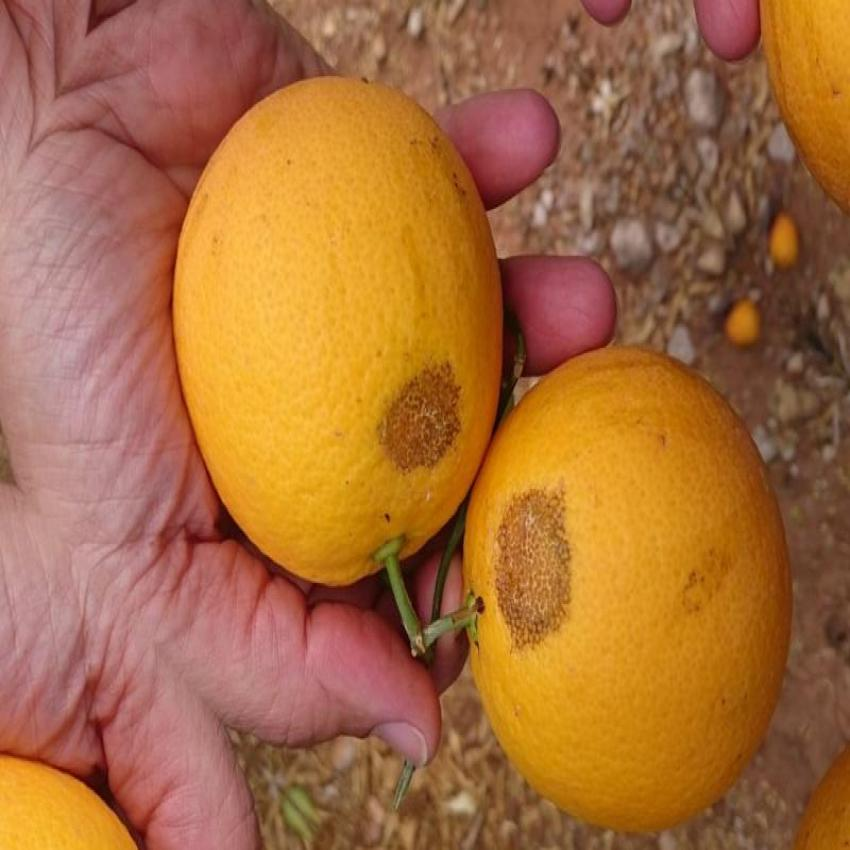Mal estado: (150, 66, 512, 612), (457, 349, 797, 833)
